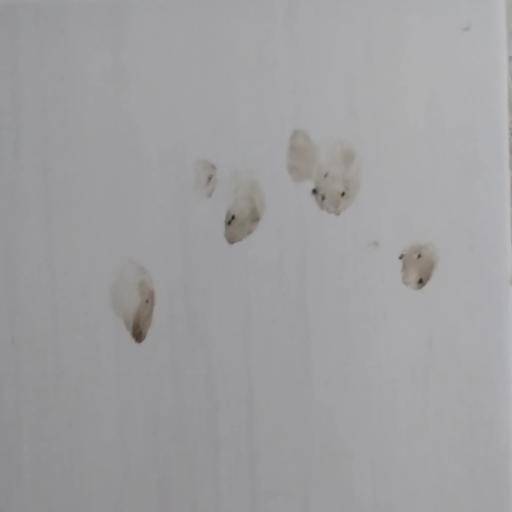stain: (79, 51, 464, 394)
